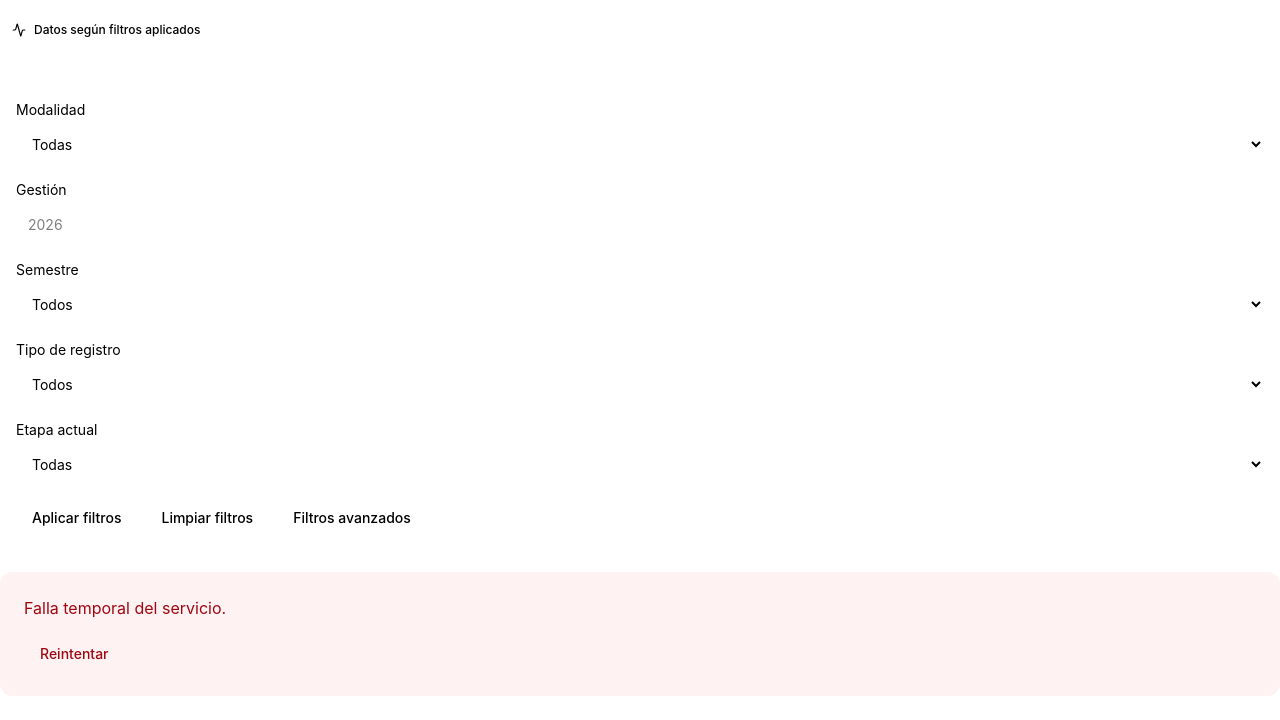
DashboardPage › mantiene carga, error recuperable y reintento
The image size is (1280, 720).
Later steps or results of the test are not shown.
(page scrolled)
Expected: the message shows "Falla temporal del servicio.", x1=24 y1=598 x2=226 y2=618
Click the button "Reintentar" at (74,654), box x1=24 y1=636 x2=124 y2=672
(page scrolled)
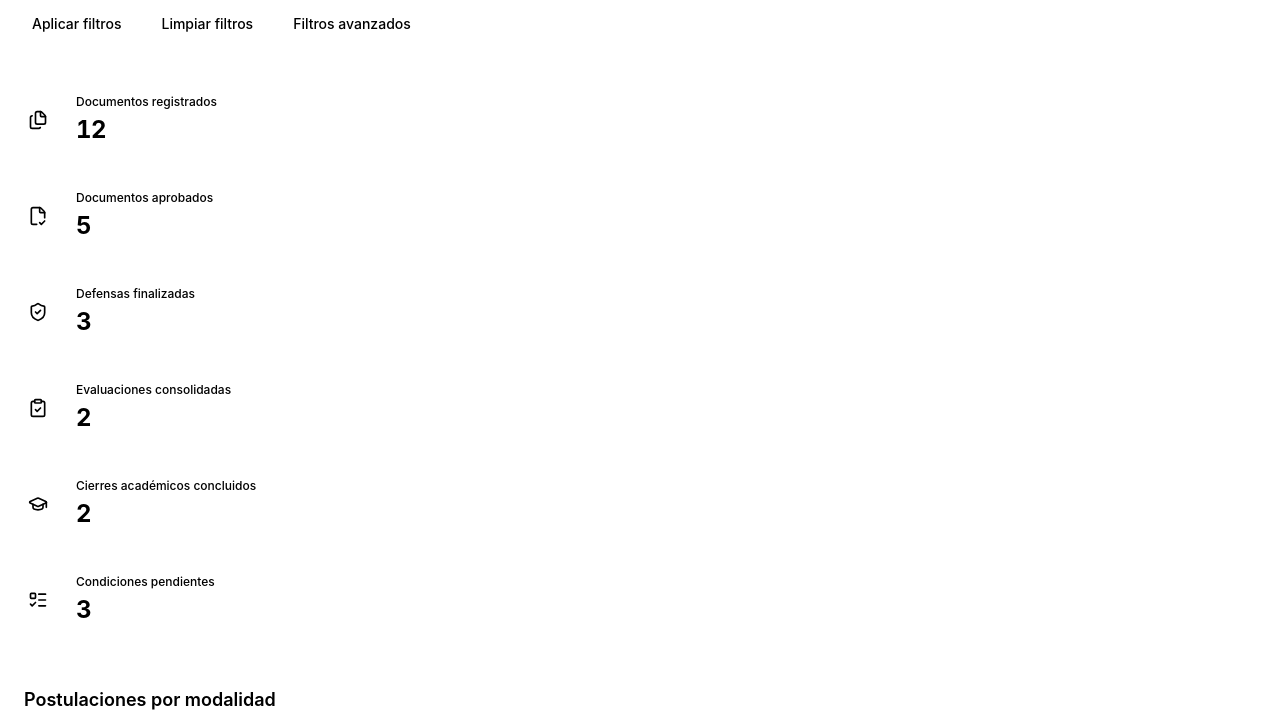
Result: the element with test id "dashboard-metrics" is shown at x1=28 y1=94 x2=256 y2=624
